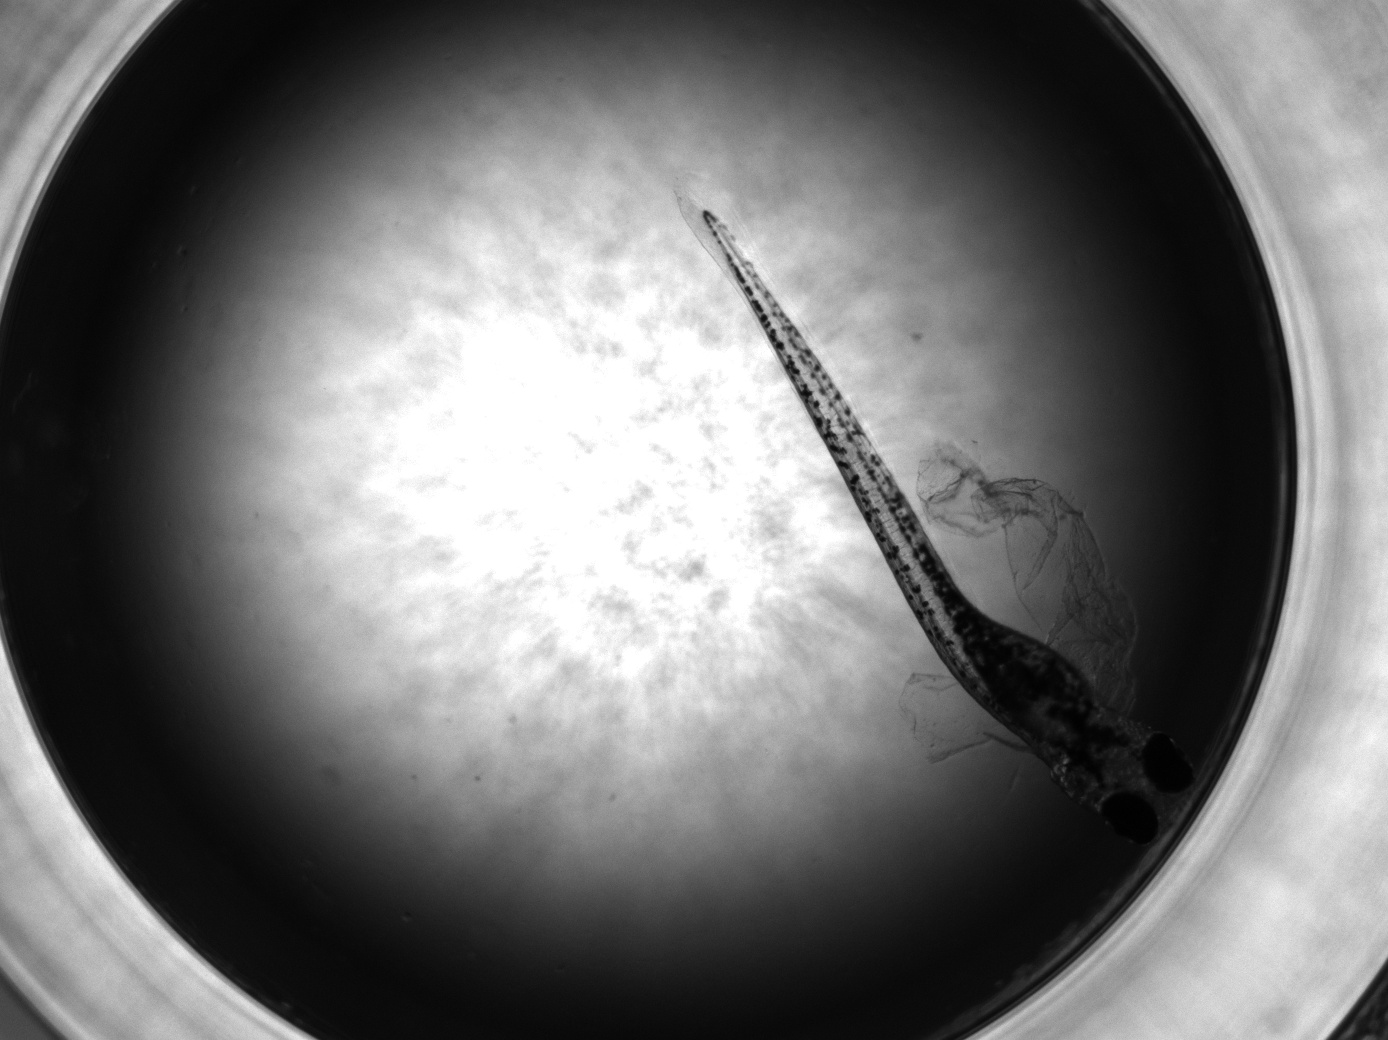embryo: (702, 210, 1195, 842)
eye: (1099, 790, 1161, 843), (1142, 735, 1196, 797)
yolksac: (954, 591, 1110, 748)
